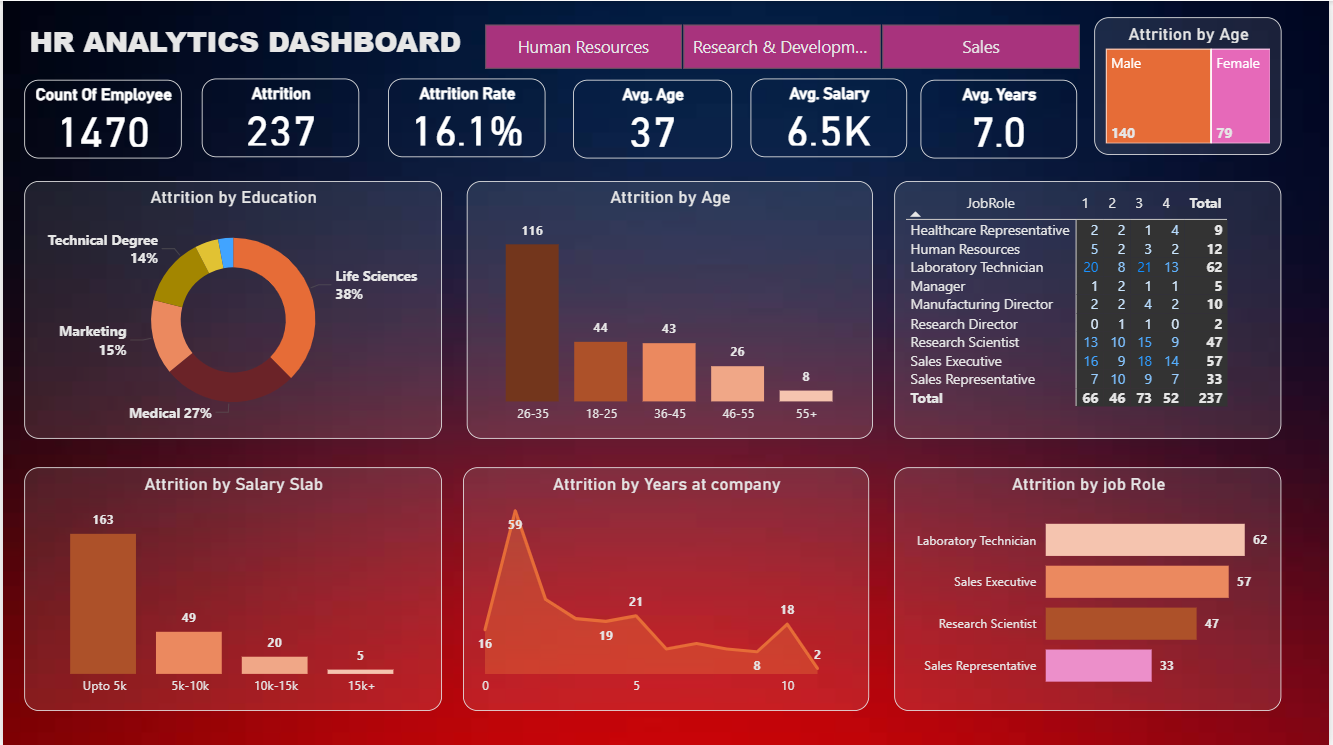

The dashboard page shown, as its layout file describes it:
{"tool":"powerbi","page":{"name":"Page 1","canvas":[1280,720],"ordinal":0},"visuals":[{"type":"card","title":"Count Of Employee","fields":{"Values":["CountNonNull(HR_Analytics.EmpID)"]},"box":[20.5,76,152,76],"z":0},{"type":"card","title":"Attrition","fields":{"Values":["Sum(HR_Analytics.AttritionCount)"]},"box":[191.8,74.8,152,76],"z":1000},{"type":"card","title":"Attrition Rate","fields":{"Values":["HR_Analytics.AttritonRate"]},"box":[371.6,74.8,152,76],"z":2000},{"type":"card","title":"Avg. Age","fields":{"Values":["Avg(HR_Analytics.Age)"]},"box":[550.1,76,153.2,76],"z":3000},{"type":"card","title":"Avg. Salary","fields":{"Values":["Avg(HR_Analytics.MonthlyIncome)"]},"box":[721.5,74.8,150.8,76],"z":4000},{"type":"card","title":"Avg. Years","fields":{"Values":["Avg(HR_Analytics.YearsAtCompany)"]},"box":[885.5,76,150.8,76],"z":5000},{"type":"donutChart","title":"Attrition by Education","fields":{"Category":["HR_Analytics.EducationField"],"Y":["Sum(HR_Analytics.AttritionCount)"]},"box":[20.5,173.7,403,248.5],"z":6000},{"type":"columnChart","title":"Attrition by Age","fields":{"Category":["HR_Analytics.AgeGroup"],"Y":["Sum(HR_Analytics.AttritionCount)"]},"box":[447.6,173.7,392.1,248.5],"z":7000},{"type":"pivotTable","fields":{"Values":["Sum(HR_Analytics.AttritionCount)"],"Rows":["HR_Analytics.JobRole"],"Columns":["HR_Analytics.JobSatisfaction"]},"box":[860.2,173.7,374,248.5],"z":8000},{"type":"columnChart","title":"Attrition by Salary Slab","fields":{"Y":["Sum(HR_Analytics.AttritionCount)"],"Category":["HR_Analytics.SalarySlab"]},"box":[20.5,450,403,235.3],"z":9000},{"type":"barChart","title":"Attrition by job Role","fields":{"Y":["Sum(HR_Analytics.AttritionCount)"],"Category":["HR_Analytics.JobRole"]},"box":[860.2,450,374,235.3],"z":10000},{"type":"areaChart","title":"Attrition by Years at company","fields":{"Y":["Sum(HR_Analytics.AttritionCount)"],"Category":["HR_Analytics.YearsAtCompany"]},"box":[444,450,392.1,235.3],"z":11000},{"type":"treemap","title":"Attrition by Age","fields":{"Group":["HR_Analytics.Gender"],"Values":["Sum(HR_Analytics.AttritionCount)"]},"box":[1053.2,15.7,181,132.7],"z":12000},{"type":"slicer","fields":{"Values":["HR_Analytics.Department"]},"box":[439.1,15.7,623.7,56.7],"z":13000},{"type":"textbox","box":[20.5,14.5,427.1,56.7],"z":14000}]}

Visuals, with their boxes in screenshot pixels (x1, y1, x2, y2), scaled from the page's 1280x720 canvas onto the 1333x745 screenshot:
"Count Of Employee" card: box(21, 79, 180, 157)
"Attrition" card: box(200, 77, 358, 156)
"Attrition Rate" card: box(387, 77, 545, 156)
"Avg. Age" card: box(573, 79, 732, 157)
"Avg. Salary" card: box(751, 77, 908, 156)
"Avg. Years" card: box(922, 79, 1079, 157)
"Attrition by Education" donutChart: box(21, 180, 441, 437)
"Attrition by Age" columnChart: box(466, 180, 874, 437)
pivotTable - Sum(HR_Analytics.AttritionCount) x HR_Analytics.JobRole: box(896, 180, 1285, 437)
"Attrition by Salary Slab" columnChart: box(21, 466, 441, 709)
"Attrition by job Role" barChart: box(896, 466, 1285, 709)
"Attrition by Years at company" areaChart: box(462, 466, 871, 709)
"Attrition by Age" treemap: box(1097, 16, 1285, 154)
slicer - HR_Analytics.Department: box(457, 16, 1107, 75)
textbox: box(21, 15, 466, 74)
